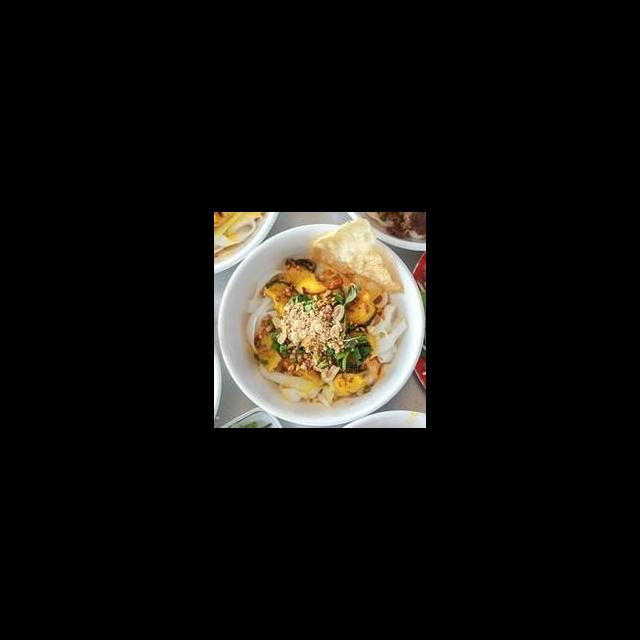banh da: (308, 214, 405, 296)
ca: (332, 329, 376, 375), (281, 256, 331, 296), (339, 289, 379, 335), (254, 326, 291, 374), (261, 277, 301, 317)
mi: (256, 360, 338, 410), (364, 290, 411, 366), (242, 292, 277, 355)
